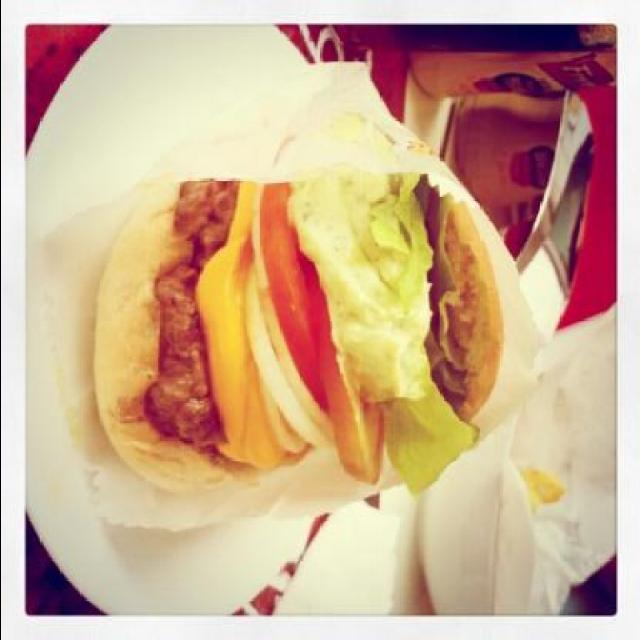Hamburger: (95, 112, 502, 494)
